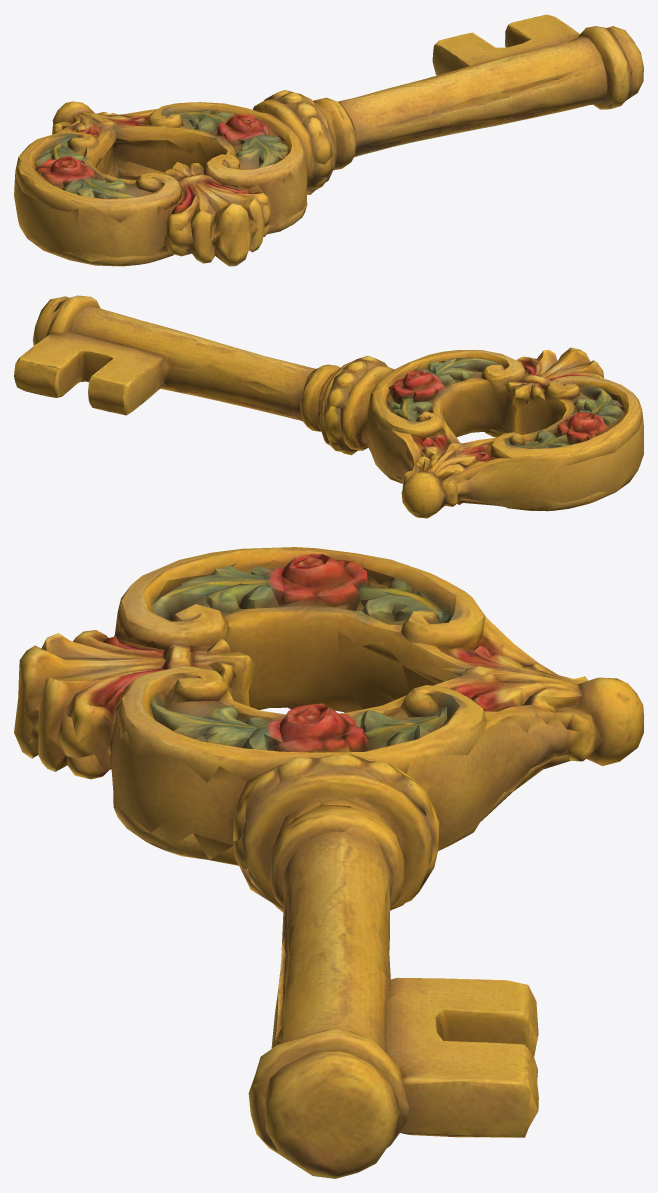
File: key.glb
3 renders of one model, top to bottom at view 1: azimuth 30°, elevation 25°; view 2: azimuth 150°, elevation 25°; view 3: azimuth 270°, elevation 25°, orthographic. The views are drawn at different scales.
Parts seen in each view (by area): view 1: key; view 2: key; view 3: key.
Part boxes in pixels (x1,y1,x2,y2): key: [14, 14, 643, 266]; key: [14, 295, 643, 518]; key: [14, 547, 643, 1178].
Bounding box in the file's own units: 0.739 × 0.1093 × 0.372.
1 material, 1 textured.
